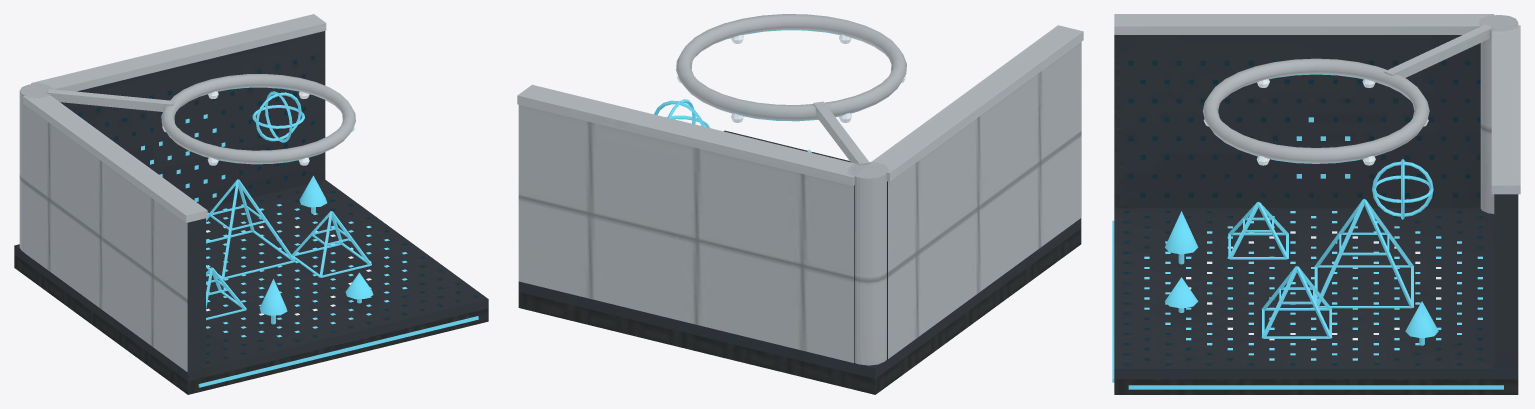
File: enterprise_holodeck.glb
3 views of the same model, side by side, from view 1: azimuth 30°, elevation 25°; view 2: azimuth 150°, elevation 25°; view 3: azimuth 270°, elevation 25° (orthographic). The views are drawn at different scales.
Parts seen in each view (by area): view 1: te_enterprise_holodeck, move_sensor; view 2: te_enterprise_holodeck, move_sensor; view 3: te_enterprise_holodeck, move_sensor.
Part boxes in pixels (x1=…): te_enterprise_holodeck: x1=14, y1=14, x2=488, y2=394; move_sensor: x1=252, y1=91, x2=304, y2=142; te_enterprise_holodeck: x1=517, y1=14, x2=1083, y2=394; move_sensor: x1=654, y1=99, x2=709, y2=127; te_enterprise_holodeck: x1=1112, y1=14, x2=1520, y2=394; move_sensor: x1=1372, y1=159, x2=1433, y2=219.
Bounding box in the file's own units: 0.849 × 0.483 × 0.849.
Materials: 1 (1 with a texture image).
